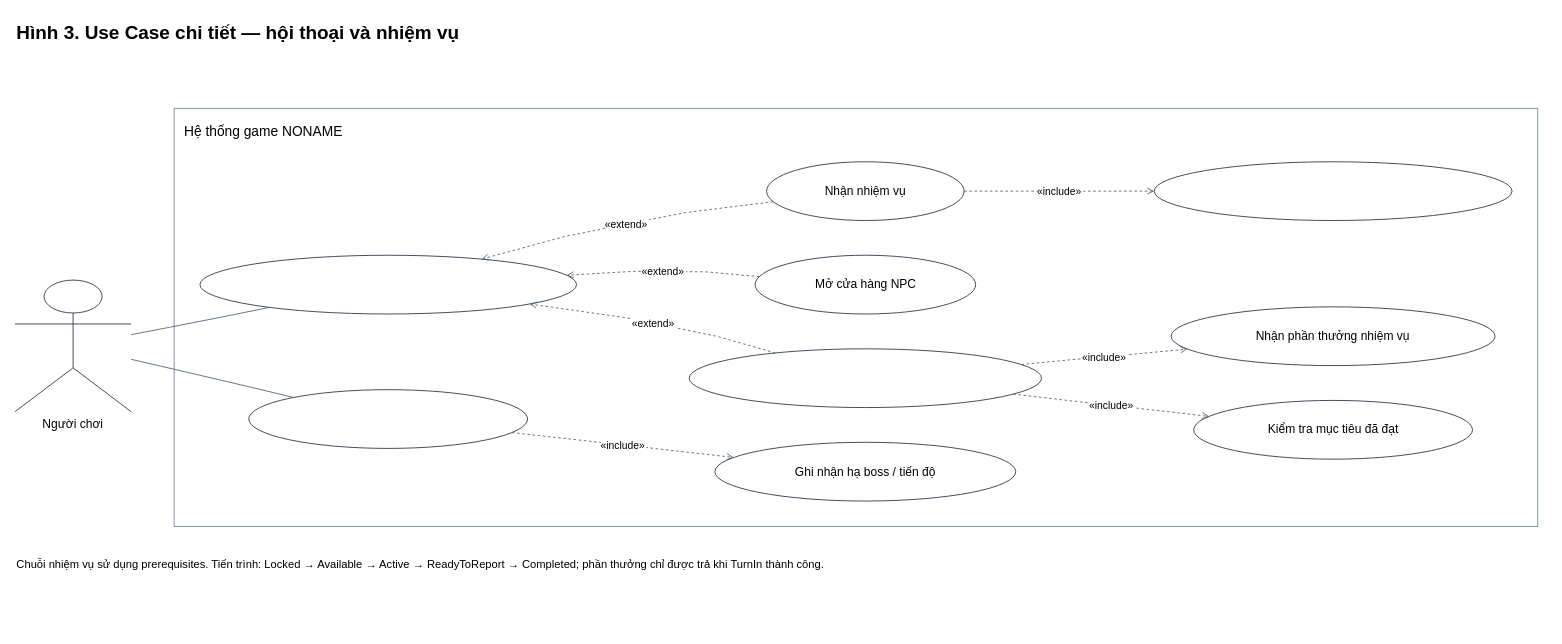
This 1562x644 diagram has some shape labels left out. Each missing label, with the centre of its shape:
Kiểm tra điều kiện mở nhiệm vụ: point (1332, 191)
Trở lại NPC để tự trả nhiệm vụ: point (865, 378)
UC05 · Hạ boss yêu cầu: point (388, 418)
UC07 · Hội thoại / chọn câu trả lời: point (388, 284)
